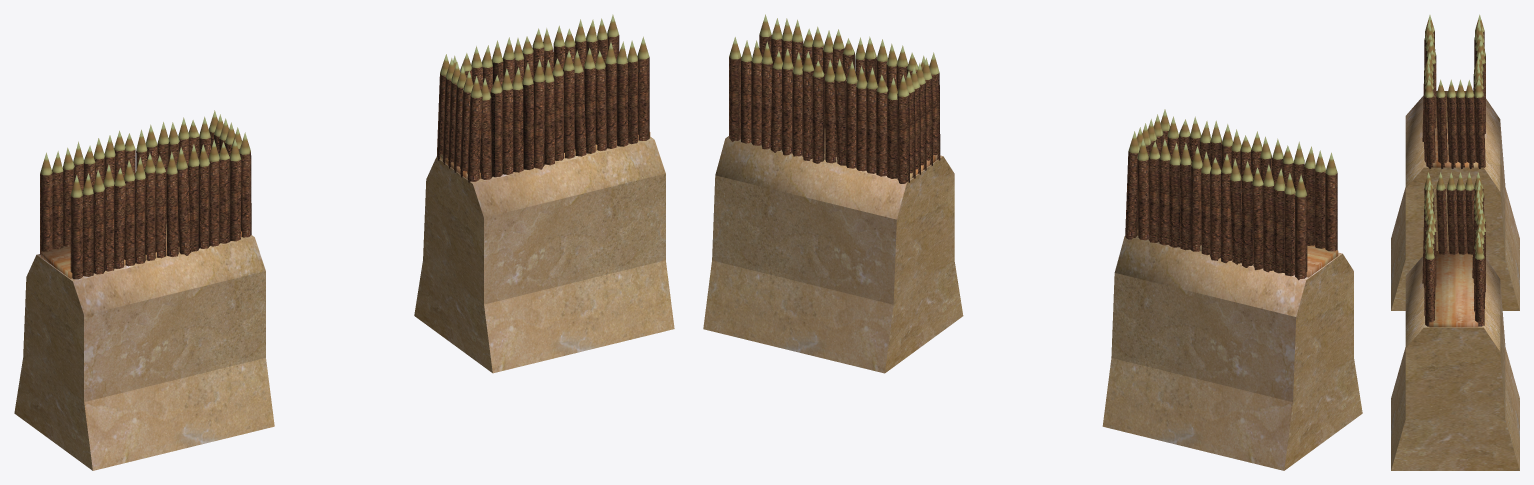
File: wall_gate.dae
The picture shows the model from 3 angles, left to right: view 1: azimuth 30°, elevation 25°; view 2: azimuth 150°, elevation 25°; view 3: azimuth 270°, elevation 25°; orthographic projection. The views are drawn at different scales.
Parts seen in each view (by area): view 1: wall_hate; view 2: wall_hate; view 3: wall_hate.
Boxes of the visible parts, <box> form: wall_hate: <box>14,14,674,470</box>; wall_hate: <box>703,14,1362,470</box>; wall_hate: <box>1391,14,1519,470</box>.
Size of the model in its own units: 33.57 by 7.86 by 15.49.
